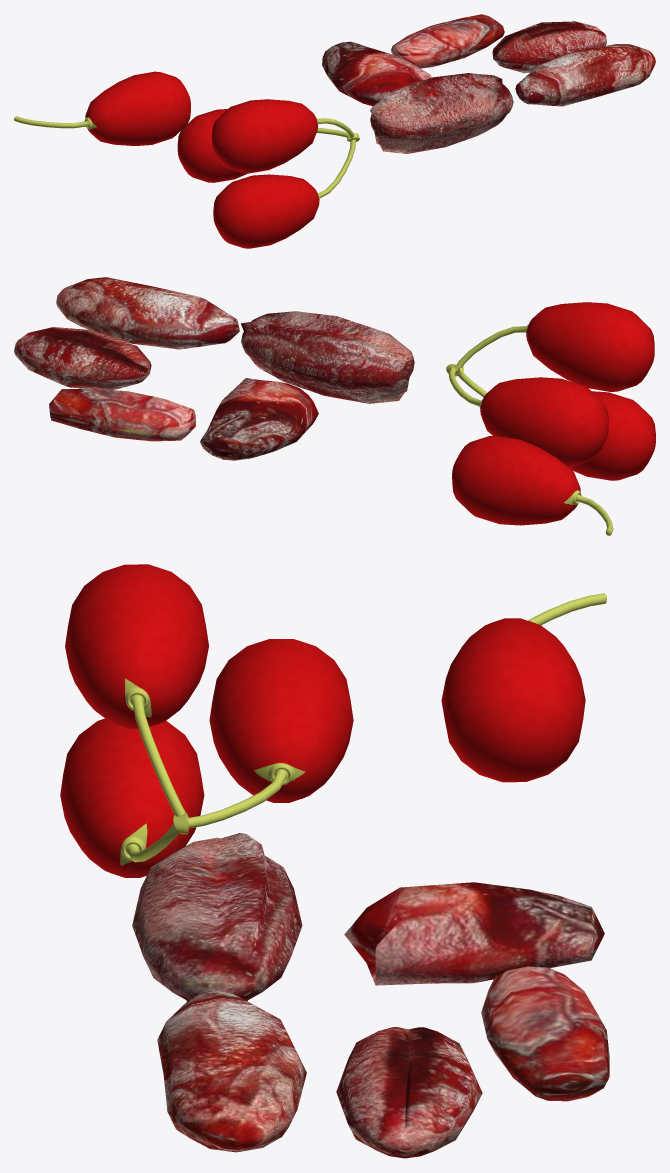
Rendered from shanzhuyu.FBX.
3 views of the same model, one above another, from view 1: azimuth 30°, elevation 25°; view 2: azimuth 150°, elevation 25°; view 3: azimuth 270°, elevation 25° (orthographic). The views are drawn at different scales.
Parts seen in each view (by area): view 1: Sphere006, Sphere001, Sphere009, Sphere002, Sphere004, Sphere005, Sphere003; view 2: Sphere006, Sphere001, Sphere009, Sphere002, Sphere004, Sphere003, Sphere005; view 3: Sphere006, Sphere001, Sphere004, Sphere009, Sphere002, Sphere003, Sphere005.
Part boxes in pixels (x1,y1,x2,y2): Sphere006: (177,99,359,248); Sphere001: (370,73,513,153); Sphere009: (14,71,190,145); Sphere002: (515,44,655,106); Sphere004: (322,41,431,106); Sphere005: (390,14,504,68); Sphere003: (492,21,606,73); Sphere006: (446,302,655,480); Sphere001: (241,311,414,403); Sphere009: (452,435,613,535); Sphere002: (56,277,239,349); Sphere004: (200,378,318,460); Sphere003: (14,327,151,390); Sphere005: (49,388,195,441); Sphere006: (60,564,353,877); Sphere001: (132,833,302,1001); Sphere004: (344,882,604,985); Sphere009: (441,593,606,782); Sphere002: (157,991,306,1152); Sphere003: (336,1027,482,1158); Sphere005: (481,966,609,1101).
Size of the model in its own units: 87.55 by 21.13 by 37.94.
1 material, 1 textured.
